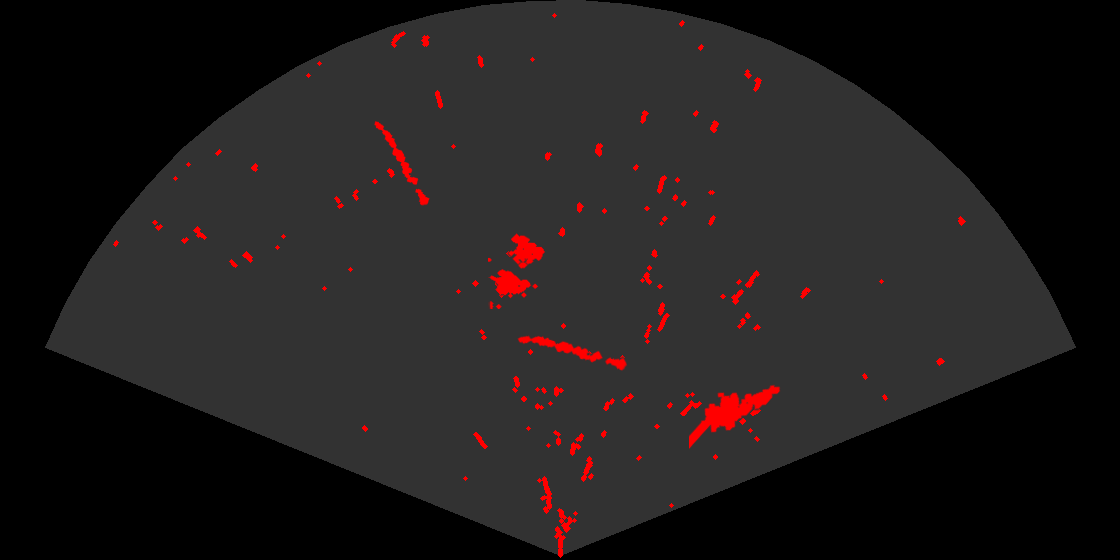cage: (488, 232, 546, 309)
chain: (373, 120, 431, 207), (516, 334, 629, 372)
frogman: (689, 383, 782, 451)
